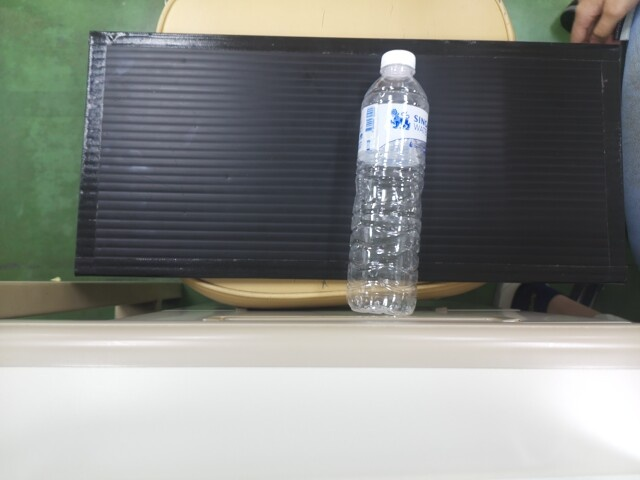plastic_bottle: (353, 44, 428, 312), (356, 46, 428, 227)
